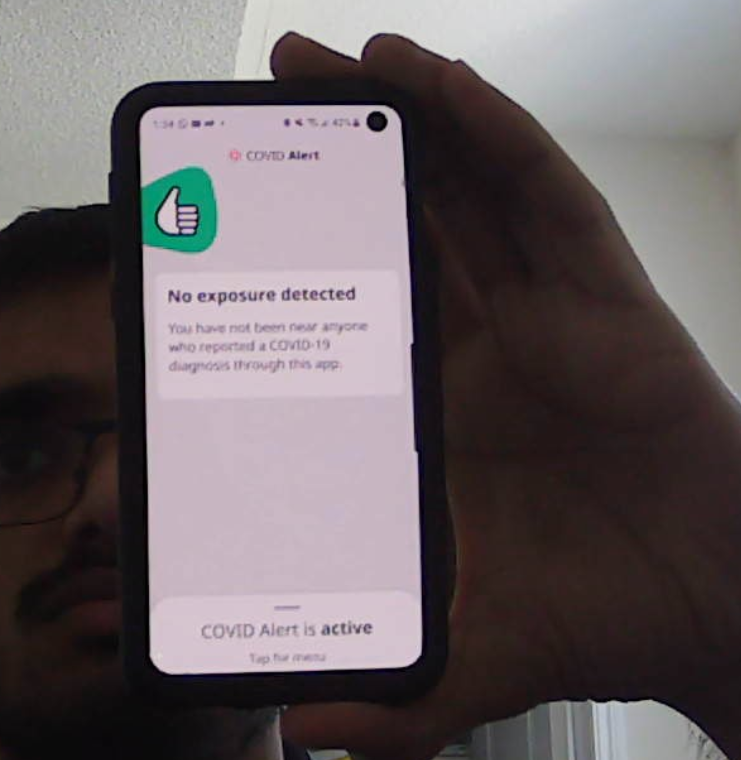Safe: (137, 144, 421, 316)
